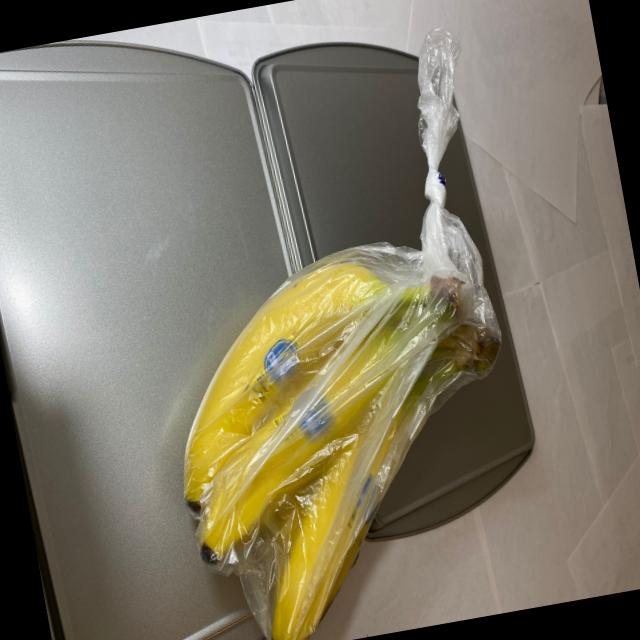banana: (122, 212, 553, 640)
